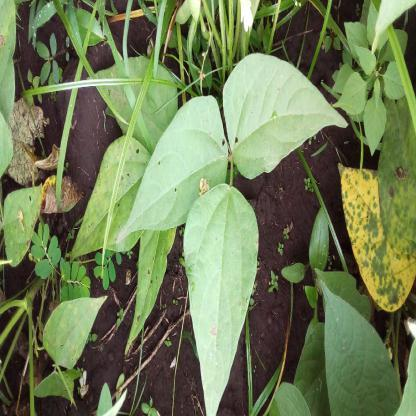Beans_Angular_LeafSpot: (106, 96, 230, 248), (220, 50, 344, 188), (334, 110, 416, 308), (70, 131, 175, 260)
